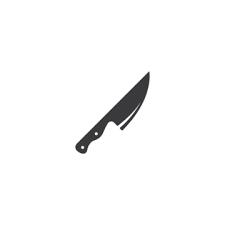Knife: (75, 70, 150, 153)
